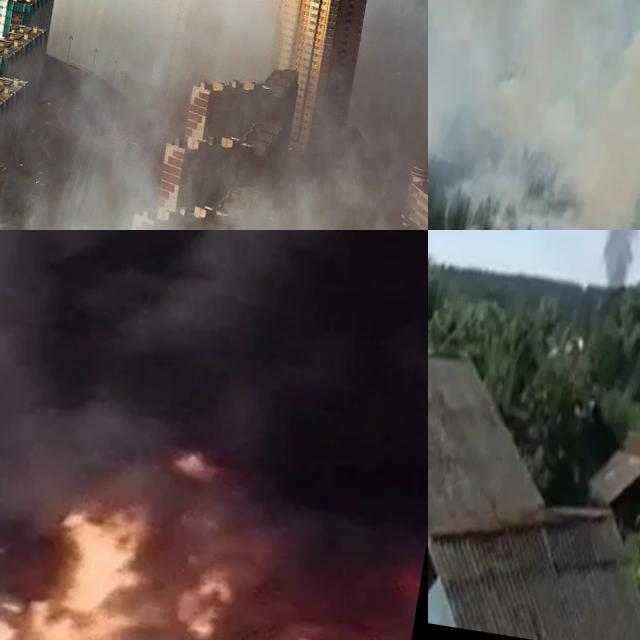smoke: (0, 230, 428, 640), (428, 0, 640, 230)
